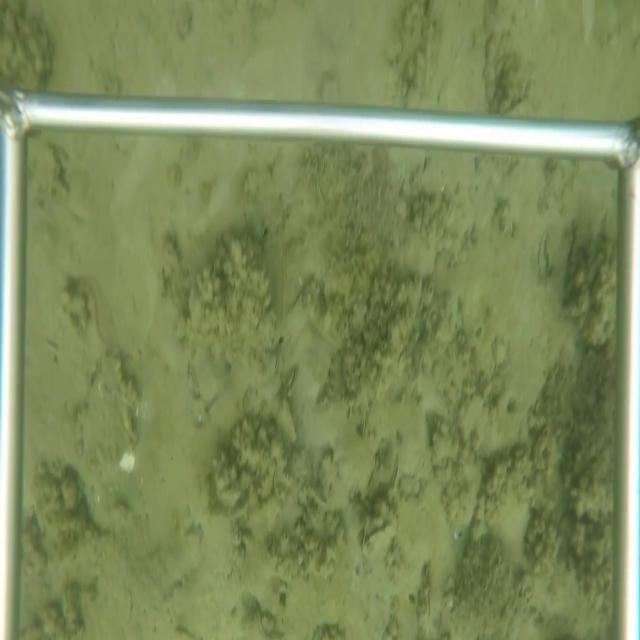Oyster-Closed: (76, 344, 142, 533), (360, 517, 398, 565)
